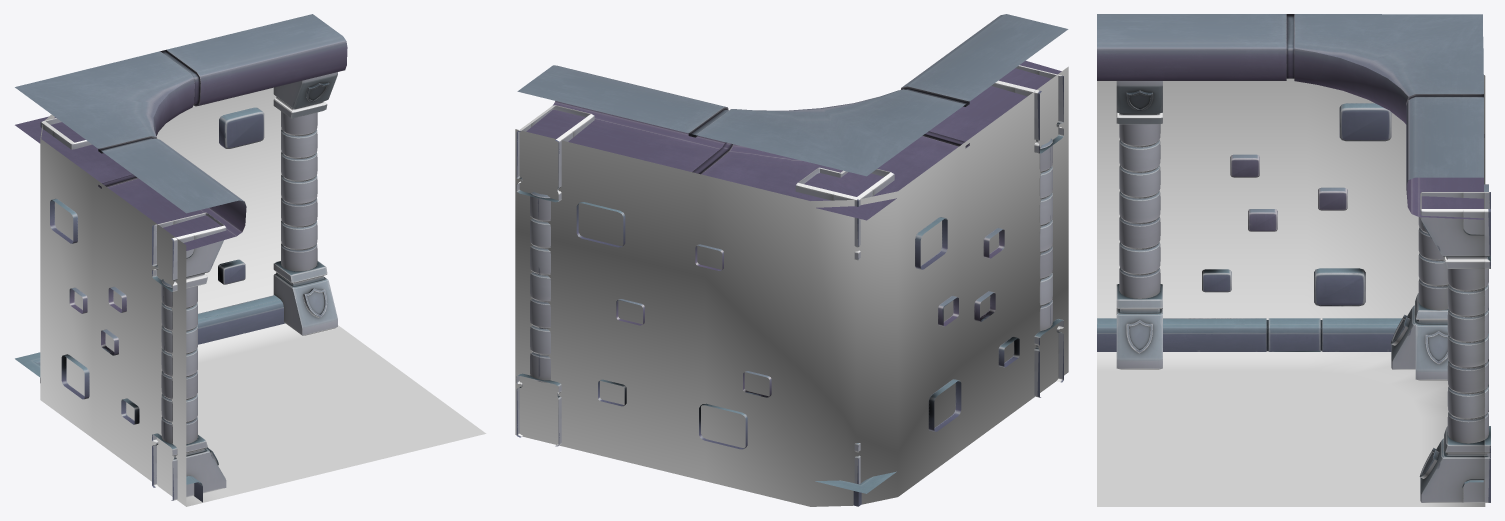
Rendered from Modular_Enviro_Floor_Corner.fbx.
The picture shows the model from 3 angles, left to right: view 1: azimuth 30°, elevation 25°; view 2: azimuth 150°, elevation 25°; view 3: azimuth 270°, elevation 25°; orthographic projection. The views are drawn at different scales.
Parts seen in each view (by area): view 1: Cube.016, Wall.011, Cube.015, Columna.002, Columna.005, Wall.002, Wall.013; view 2: Cube.016, Wall.011, Columna.002, Wall.002, Columna.005, Columna.003, Wall.013; view 3: Cube.016, Cube.015, Wall.011, Columna.002, Columna.005, Wall.013, Wall.002, Columna.003.
Boxes of the visible parts, x1,y1,x2,y2 form: Cube.016: [40, 87, 341, 506]; Wall.011: [15, 14, 347, 250]; Cube.015: [197, 328, 486, 494]; Columna.002: [273, 72, 337, 335]; Columna.005: [152, 212, 226, 500]; Wall.002: [50, 107, 264, 424]; Wall.013: [15, 295, 285, 502]; Cube.016: [515, 66, 1068, 506]; Wall.011: [517, 14, 1068, 220]; Columna.002: [516, 105, 594, 446]; Wall.002: [576, 202, 1019, 449]; Columna.005: [991, 65, 1063, 397]; Columna.003: [795, 167, 894, 484]; Wall.013: [815, 471, 896, 506]; Cube.016: [1097, 75, 1485, 506]; Cube.015: [1097, 370, 1420, 506]; Wall.011: [1097, 14, 1484, 219]; Columna.002: [1419, 192, 1490, 502]; Columna.005: [1116, 81, 1162, 369]; Wall.013: [1097, 318, 1483, 487]; Wall.002: [1202, 103, 1488, 412]; Columna.003: [1390, 217, 1448, 380].
Size of the model in its own units: 607 by 558 by 606.
